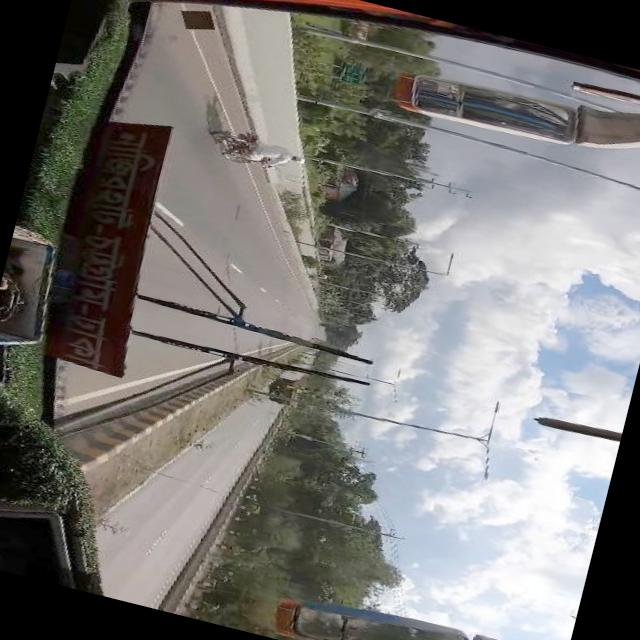motorcycle: (206, 123, 276, 170)
truck: (271, 372, 321, 412)
